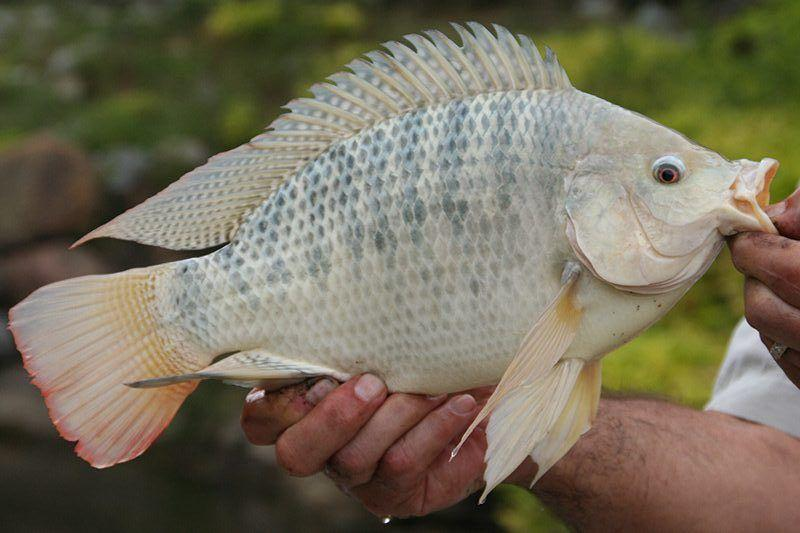Tilapia: (15, 16, 787, 481)
